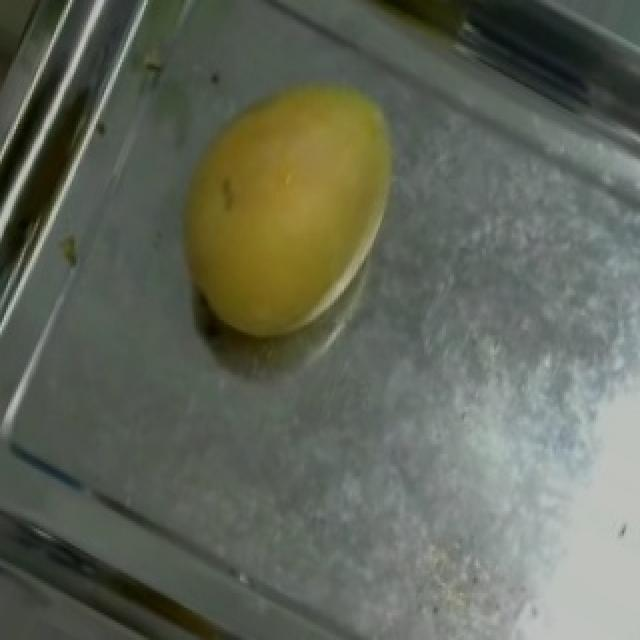fruit: (132, 25, 466, 382)
